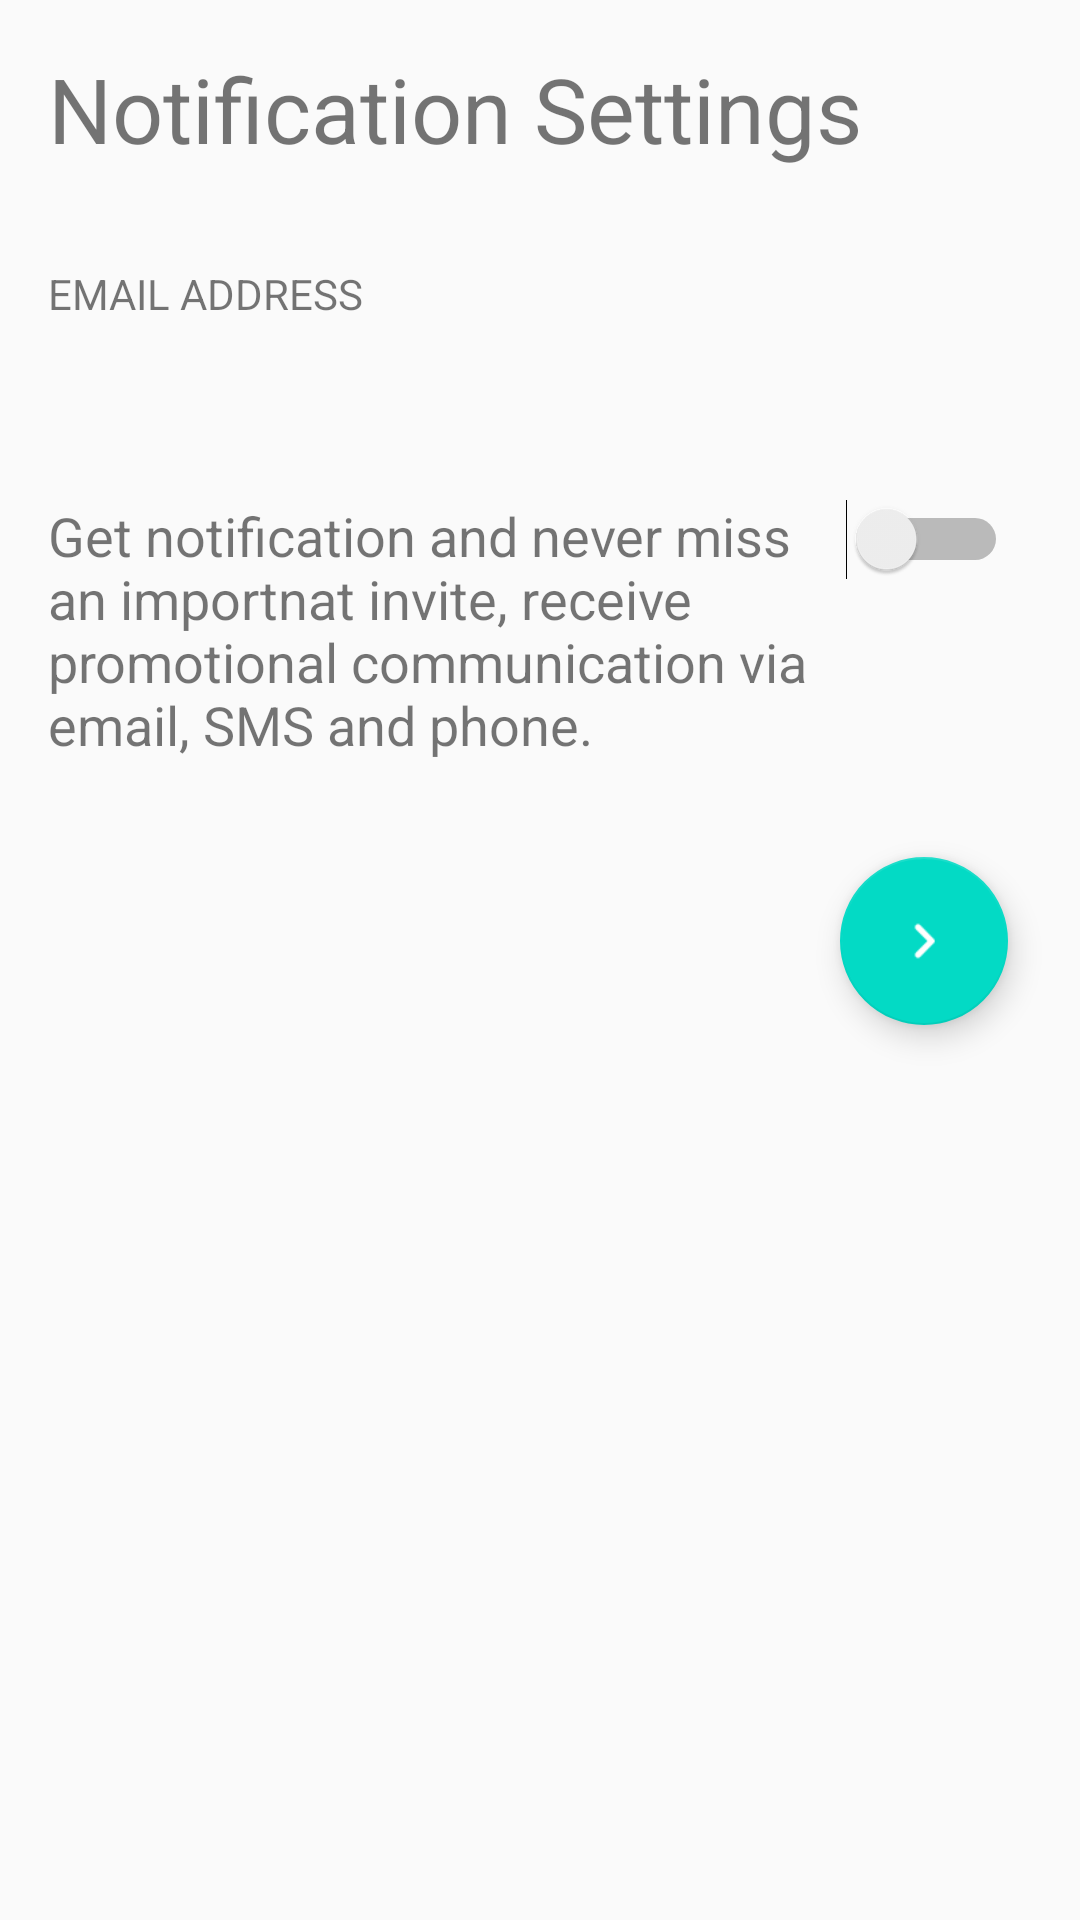

Screen size 1080px x 1920px. Icon name, then its box in pixels as (x1, y1, x2, y2):
keyboard arrow right: (840, 857, 1008, 1025)
